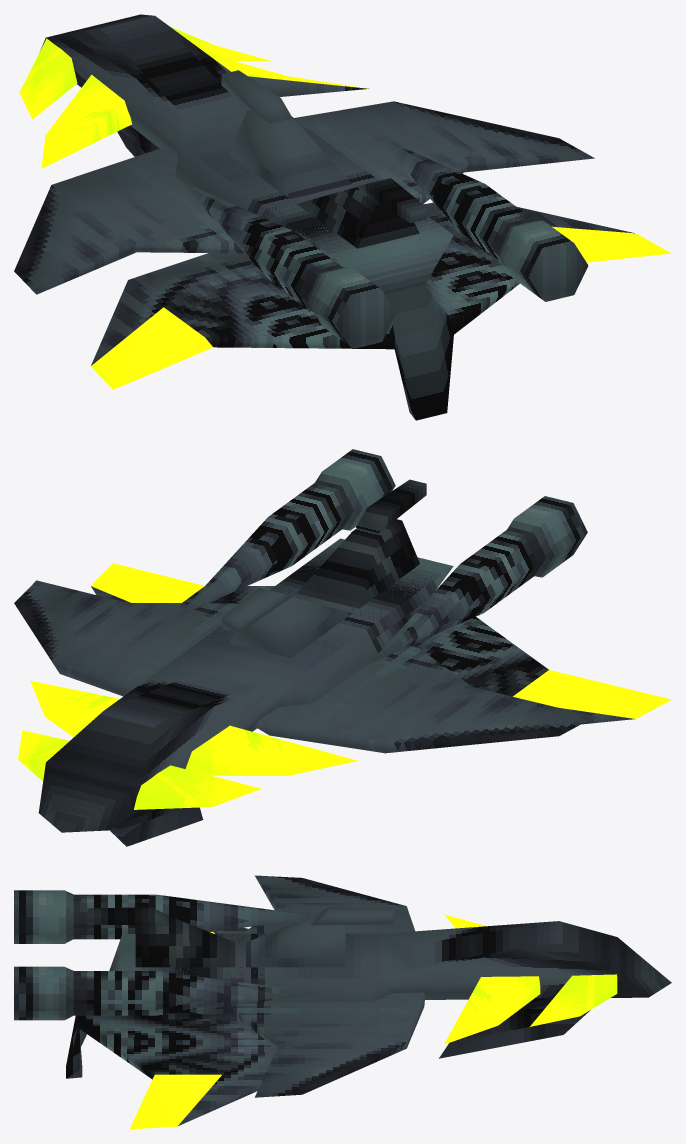
Rendered from tblackwel_chrome_3db.gltf.
3 views of the same model, one above another, from view 1: azimuth 30°, elevation 25°; view 2: azimuth 150°, elevation 25°; view 3: azimuth 270°, elevation 25° (orthographic). The views are drawn at different scales.
Parts seen in each view (by area): view 1: tblackwel_chrome.3db; view 2: tblackwel_chrome.3db; view 3: tblackwel_chrome.3db.
Boxes of the visible parts, x1,y1,x2,y2 form: tblackwel_chrome.3db: (14,14,671,420); tblackwel_chrome.3db: (14,449,671,846); tblackwel_chrome.3db: (14,875,671,1129).
Bounding box in the file's own units: 8.46 × 2.86 × 10.59.
2 materials, 2 textured.
